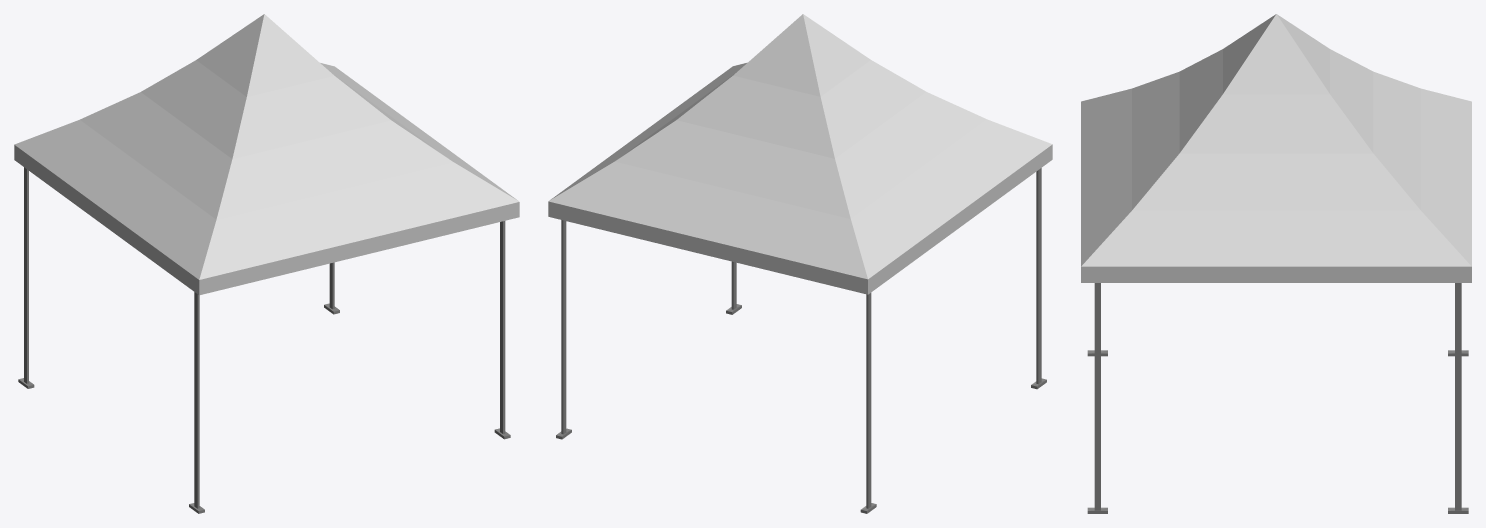
File: tendone.fbx
3 views of the same model, side by side, from view 1: azimuth 30°, elevation 25°; view 2: azimuth 150°, elevation 25°; view 3: azimuth 270°, elevation 25° (orthographic). The views are drawn at different scales.
Parts seen in each view (by area): view 1: telaio; view 2: telaio; view 3: telaio.
Part boxes in pixels (x1,y1,x2,y2): telaio: (14,14,519,513); telaio: (548,14,1052,513); telaio: (1081,14,1471,513).
Bounding box in the file's own units: 437 × 516 × 437.
